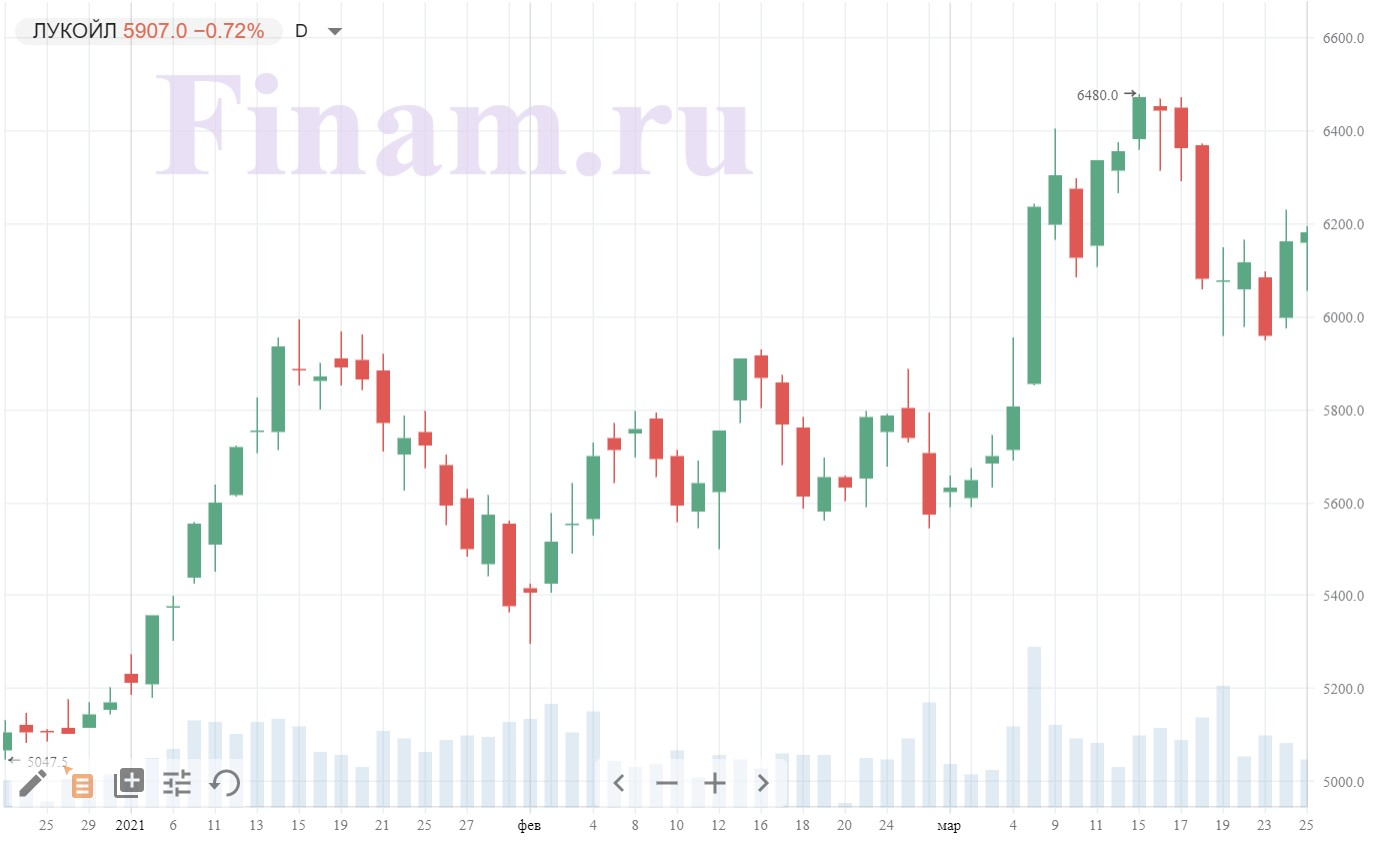3blackcrows: (754, 339, 812, 527)
bearishEngulfing: (877, 371, 920, 465), (626, 408, 666, 478)
hangingMan: (1150, 96, 1170, 191)
